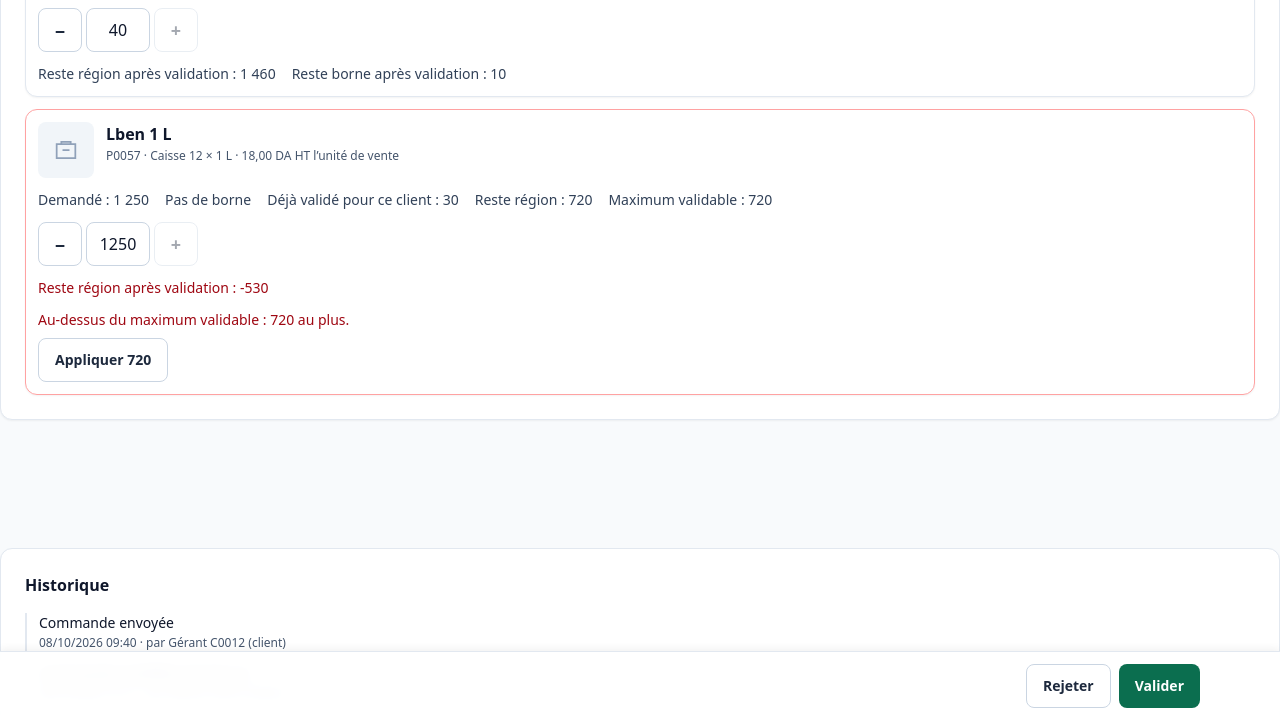
Test case: regional order — rejection › closes with Cancel or Escape, and keeps the draft of the validation
The image size is (1280, 720).
(page scrolled)
Click the button with aria-label "Appliquer 720 à « Lben 1 L »" at (103,360), box x1=38 y1=338 x2=168 y2=382
(page scrolled)
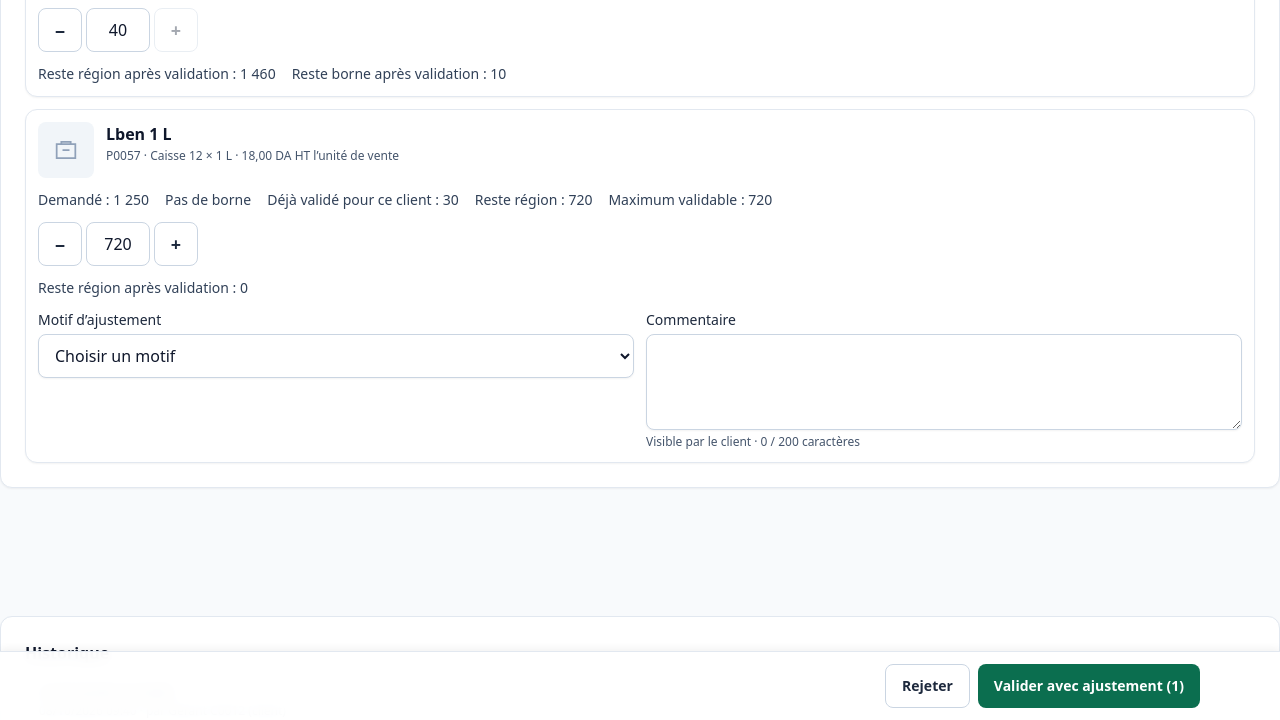
Click the button "Rejeter" at (928,686), box x1=885 y1=664 x2=970 y2=708
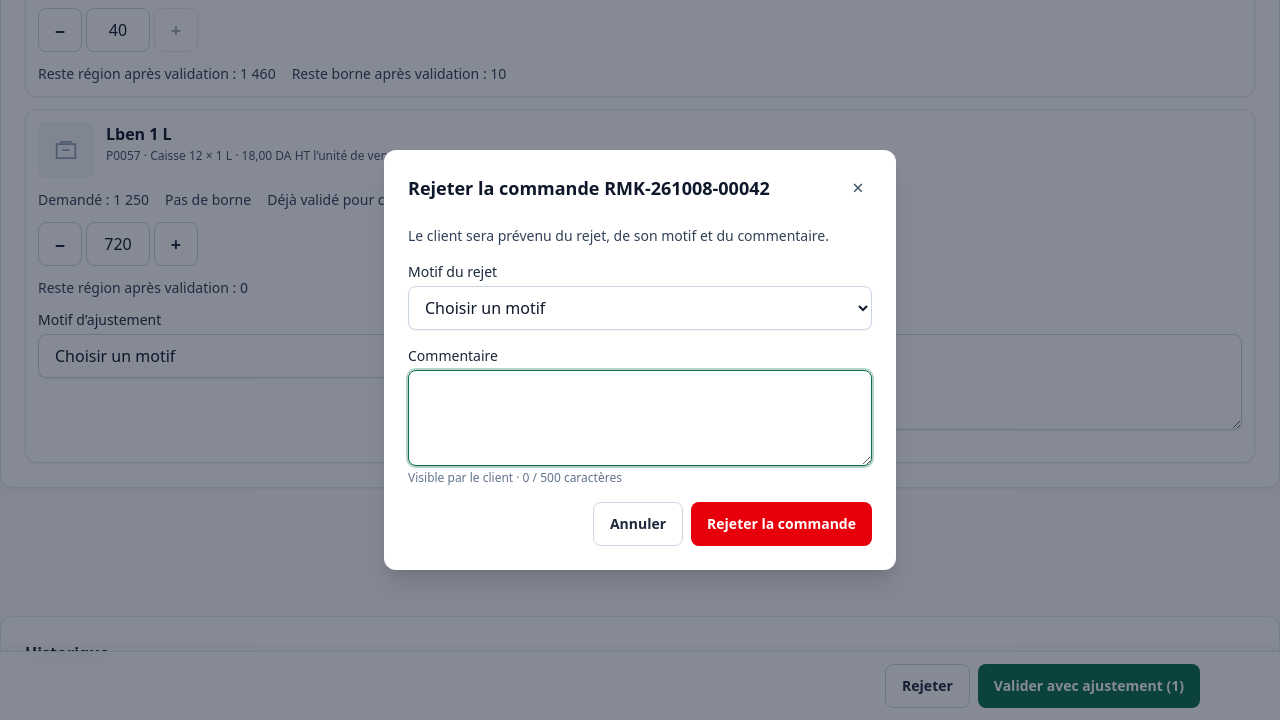
Click the button "Annuler" at (638,524), box x1=593 y1=502 x2=683 y2=546
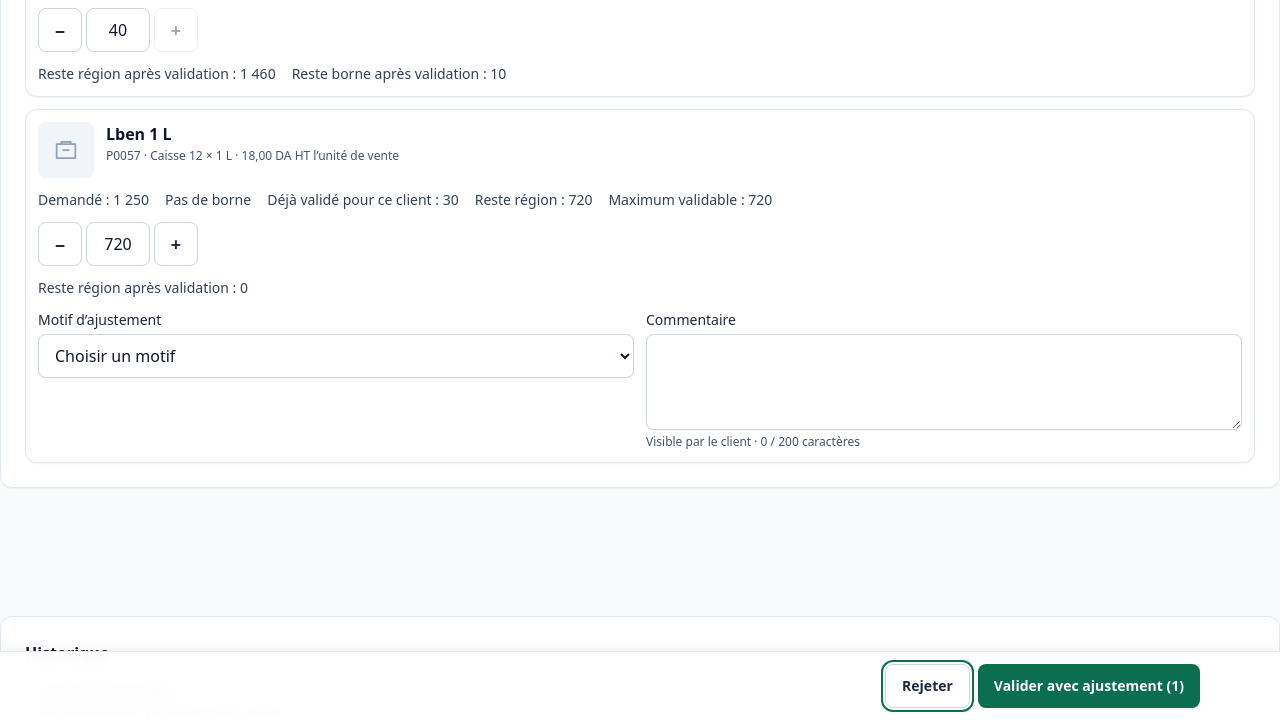
Result: the dialog is gone
Click the button "Rejeter" at (928,686), box x1=885 y1=664 x2=970 y2=708
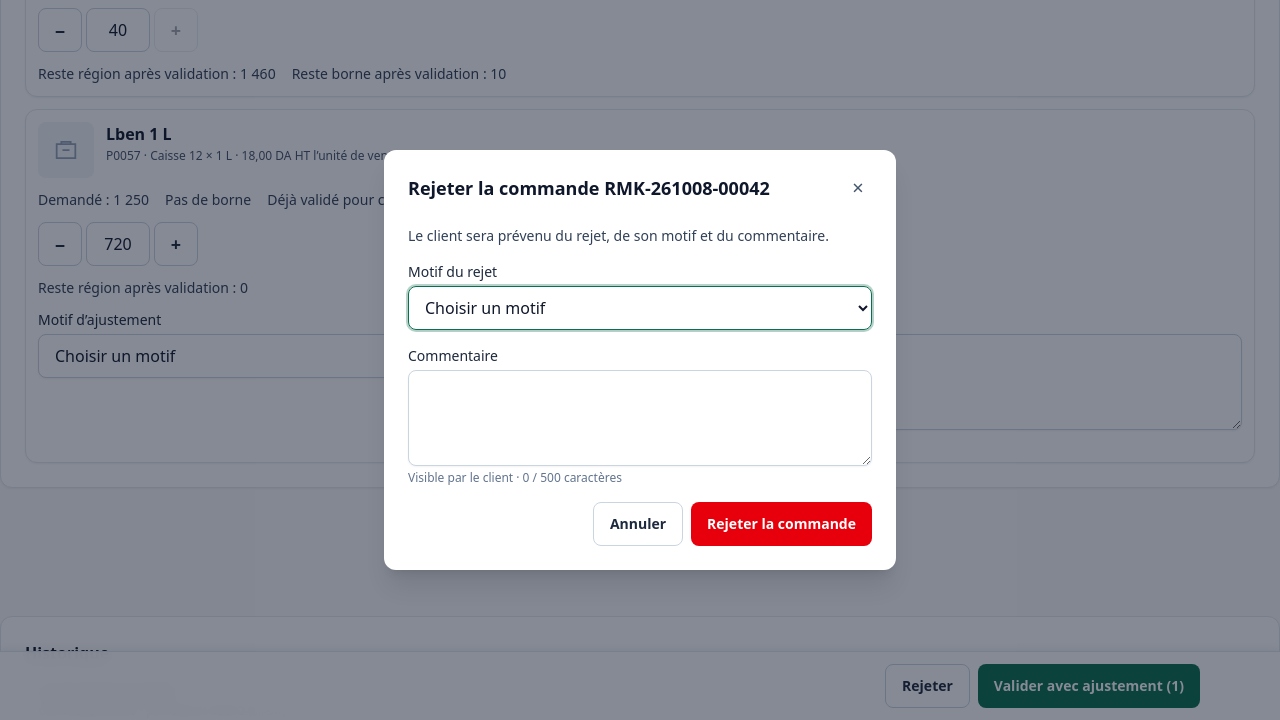
Result: the dialog "Rejeter la commande RMK-261008-00042" is shown at x1=384 y1=150 x2=896 y2=570
Press Escape
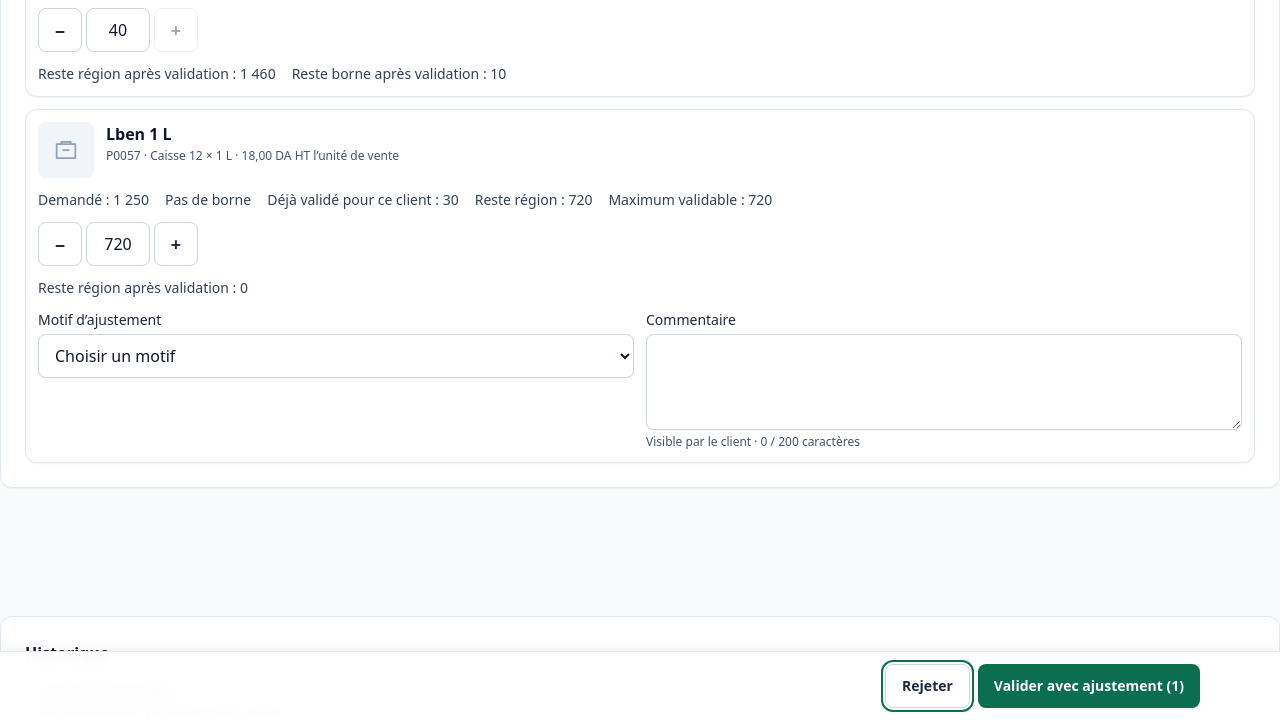
Result: the field named "Quantité de Lben 1 L" holds "720" at x1=86 y1=222 x2=150 y2=266
Result: the dialog is gone
